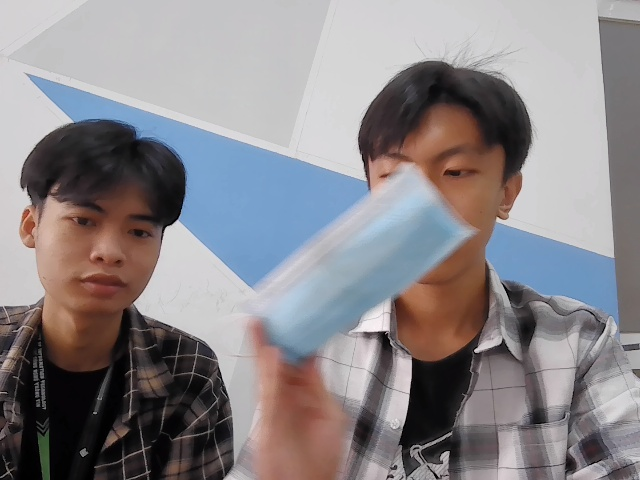human: (16, 114, 196, 317)
mask: (235, 161, 484, 353)
